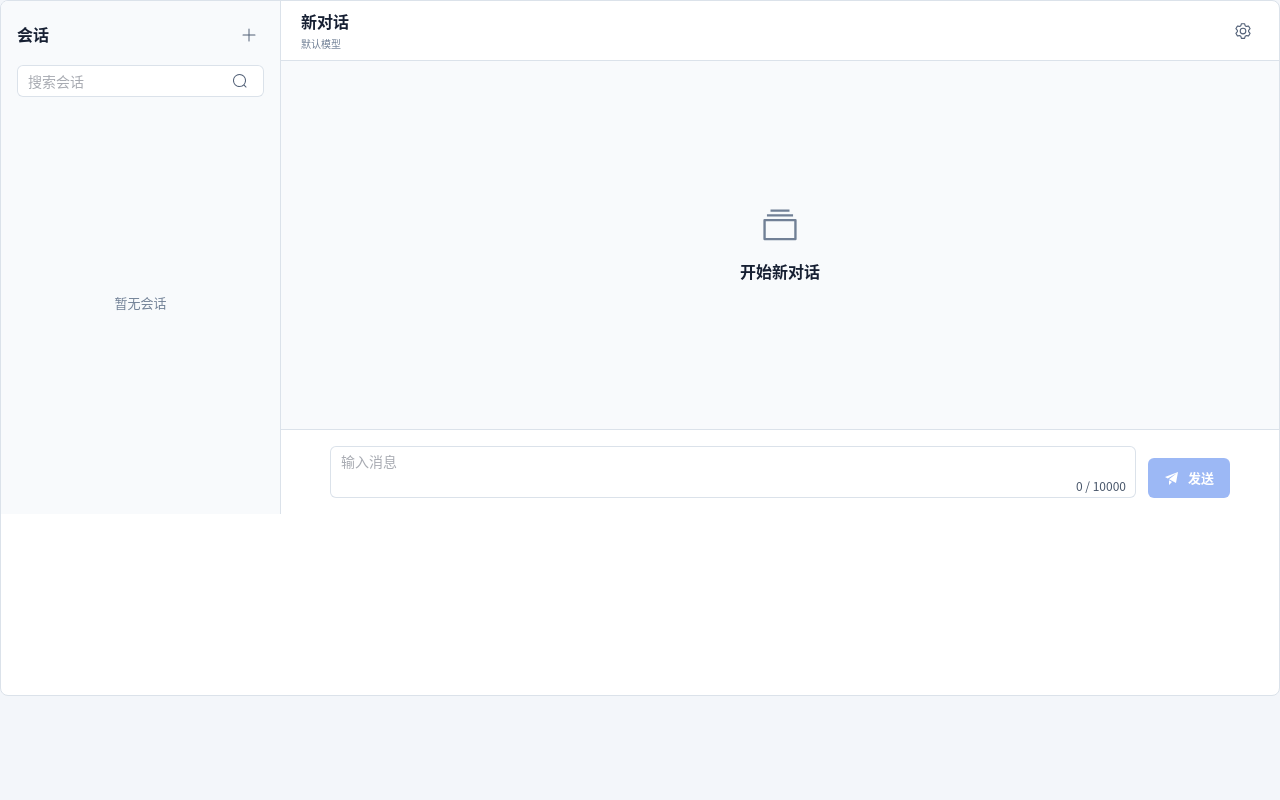
Test: AiChatPage › marks a partial reply as cancelled after the user stops streaming
Type "开始" into the text box named "消息内容" at (733, 472), box [330,446,1136,498]
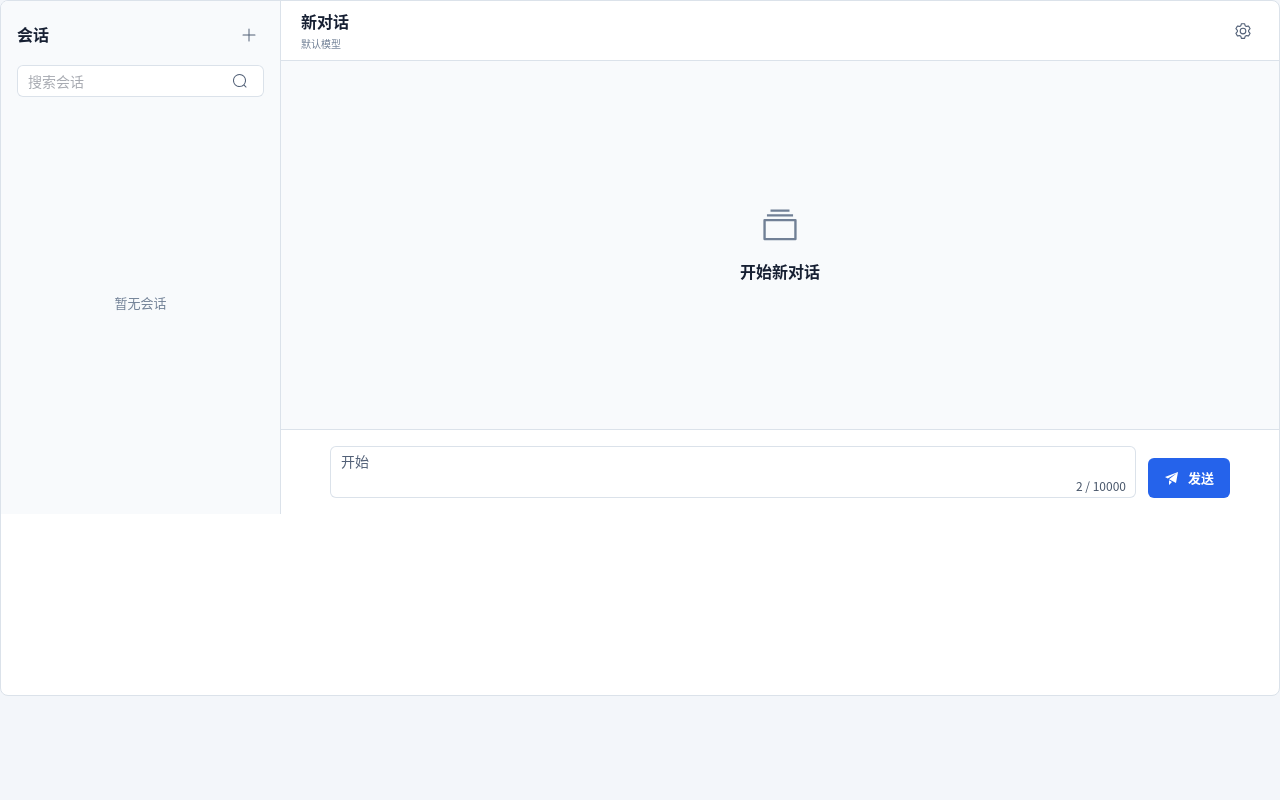
Click the button with class "chat-composer__button--send" at (1189, 478), box [1148,458,1230,498]
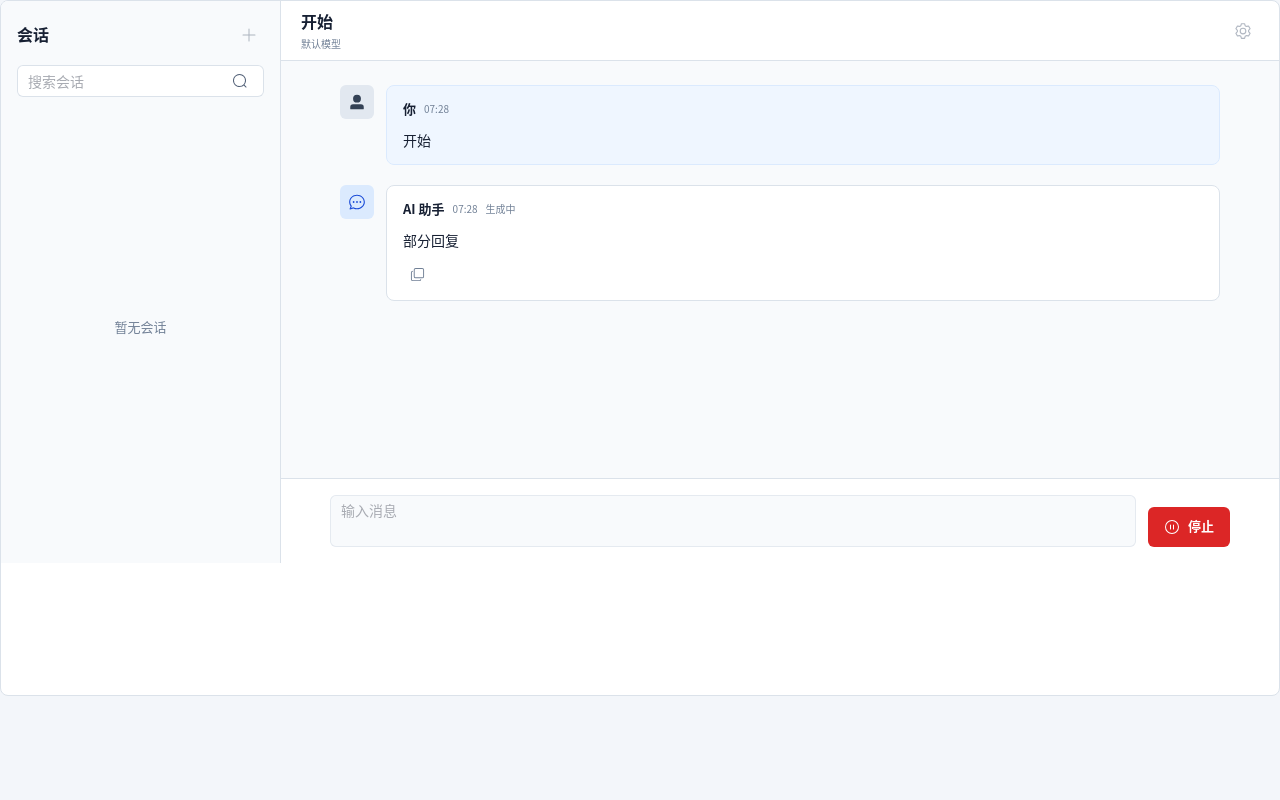
Click the button with class "chat-composer__button--stop" at (1189, 527), box [1148,507,1230,547]
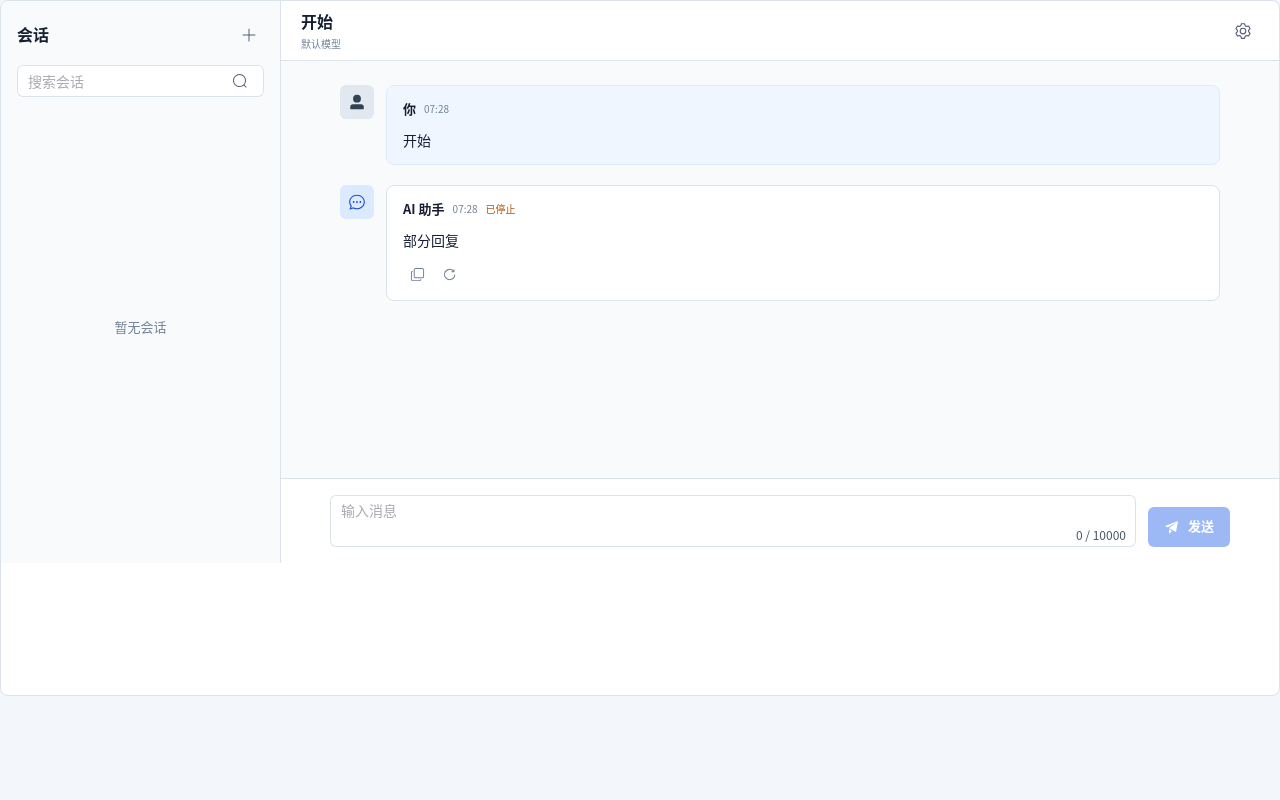
expect the text "部分回复" is shown: met, box [403,230,459,250]
expect the text "已停止" is shown: met, box [486,201,516,217]
